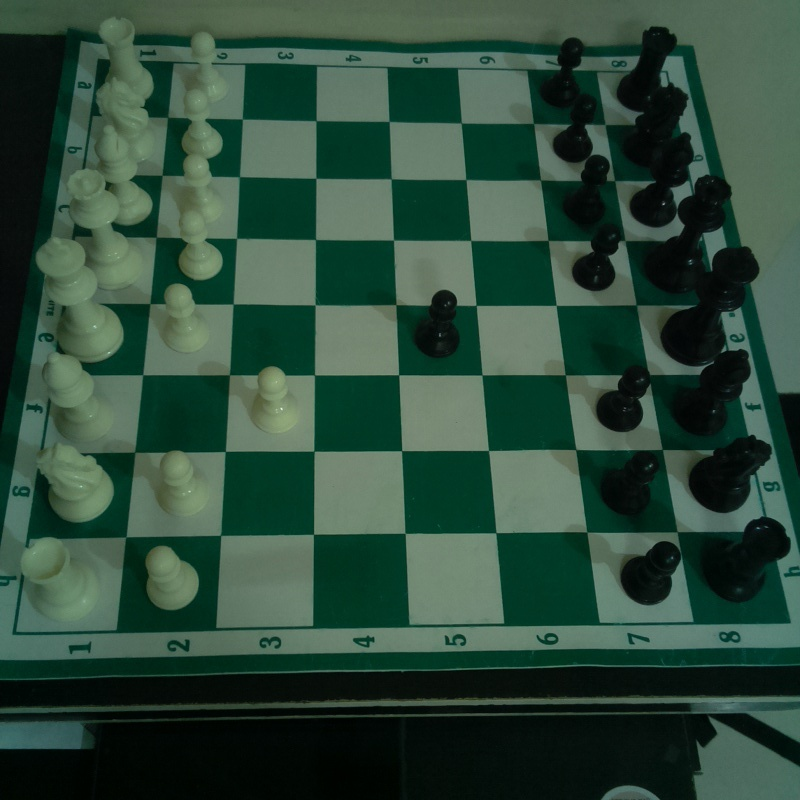black-bishop: (670, 346, 751, 434), (631, 131, 695, 225)
black-king: (665, 243, 760, 364)
black-knight: (689, 433, 766, 512), (623, 85, 687, 166)
black-pawn: (597, 448, 662, 519), (621, 535, 680, 605), (594, 358, 650, 429), (416, 288, 462, 359), (573, 224, 622, 288), (565, 156, 610, 224), (544, 36, 586, 105), (552, 94, 595, 160)
black-queen: (642, 172, 732, 296)
black-rook: (704, 516, 793, 604), (615, 25, 678, 112)
white-bishop: (44, 351, 118, 440), (91, 126, 154, 228)
white-king: (35, 237, 125, 360)
white-knight: (39, 443, 115, 523), (98, 76, 160, 163)
white-pawn: (143, 542, 202, 617), (158, 284, 212, 356), (155, 452, 209, 523), (252, 363, 300, 435), (177, 212, 225, 282), (183, 31, 230, 102), (177, 153, 225, 221), (178, 91, 221, 159)
white-queen: (66, 167, 141, 288)
white-rook: (20, 534, 100, 622), (96, 16, 157, 102)
